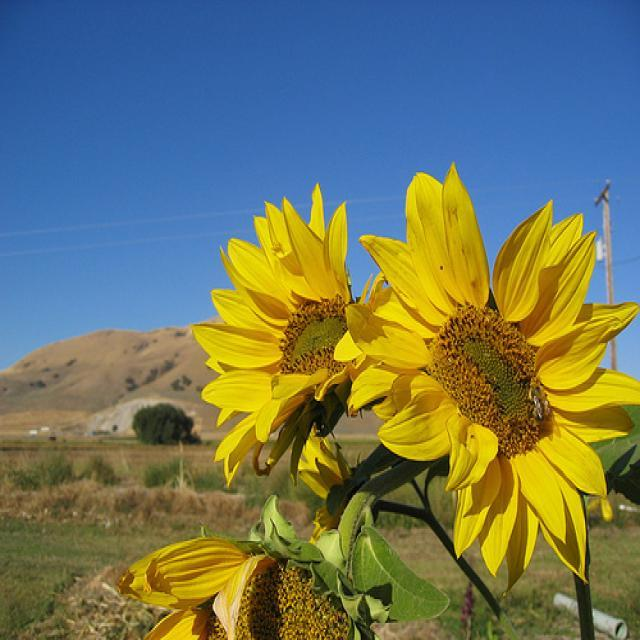sunflower: (337, 160, 640, 594), (192, 183, 387, 484), (118, 539, 353, 640), (297, 428, 343, 544)
